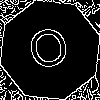O: (25, 25, 75, 80)
